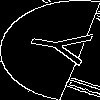Y: (25, 25, 100, 69)
